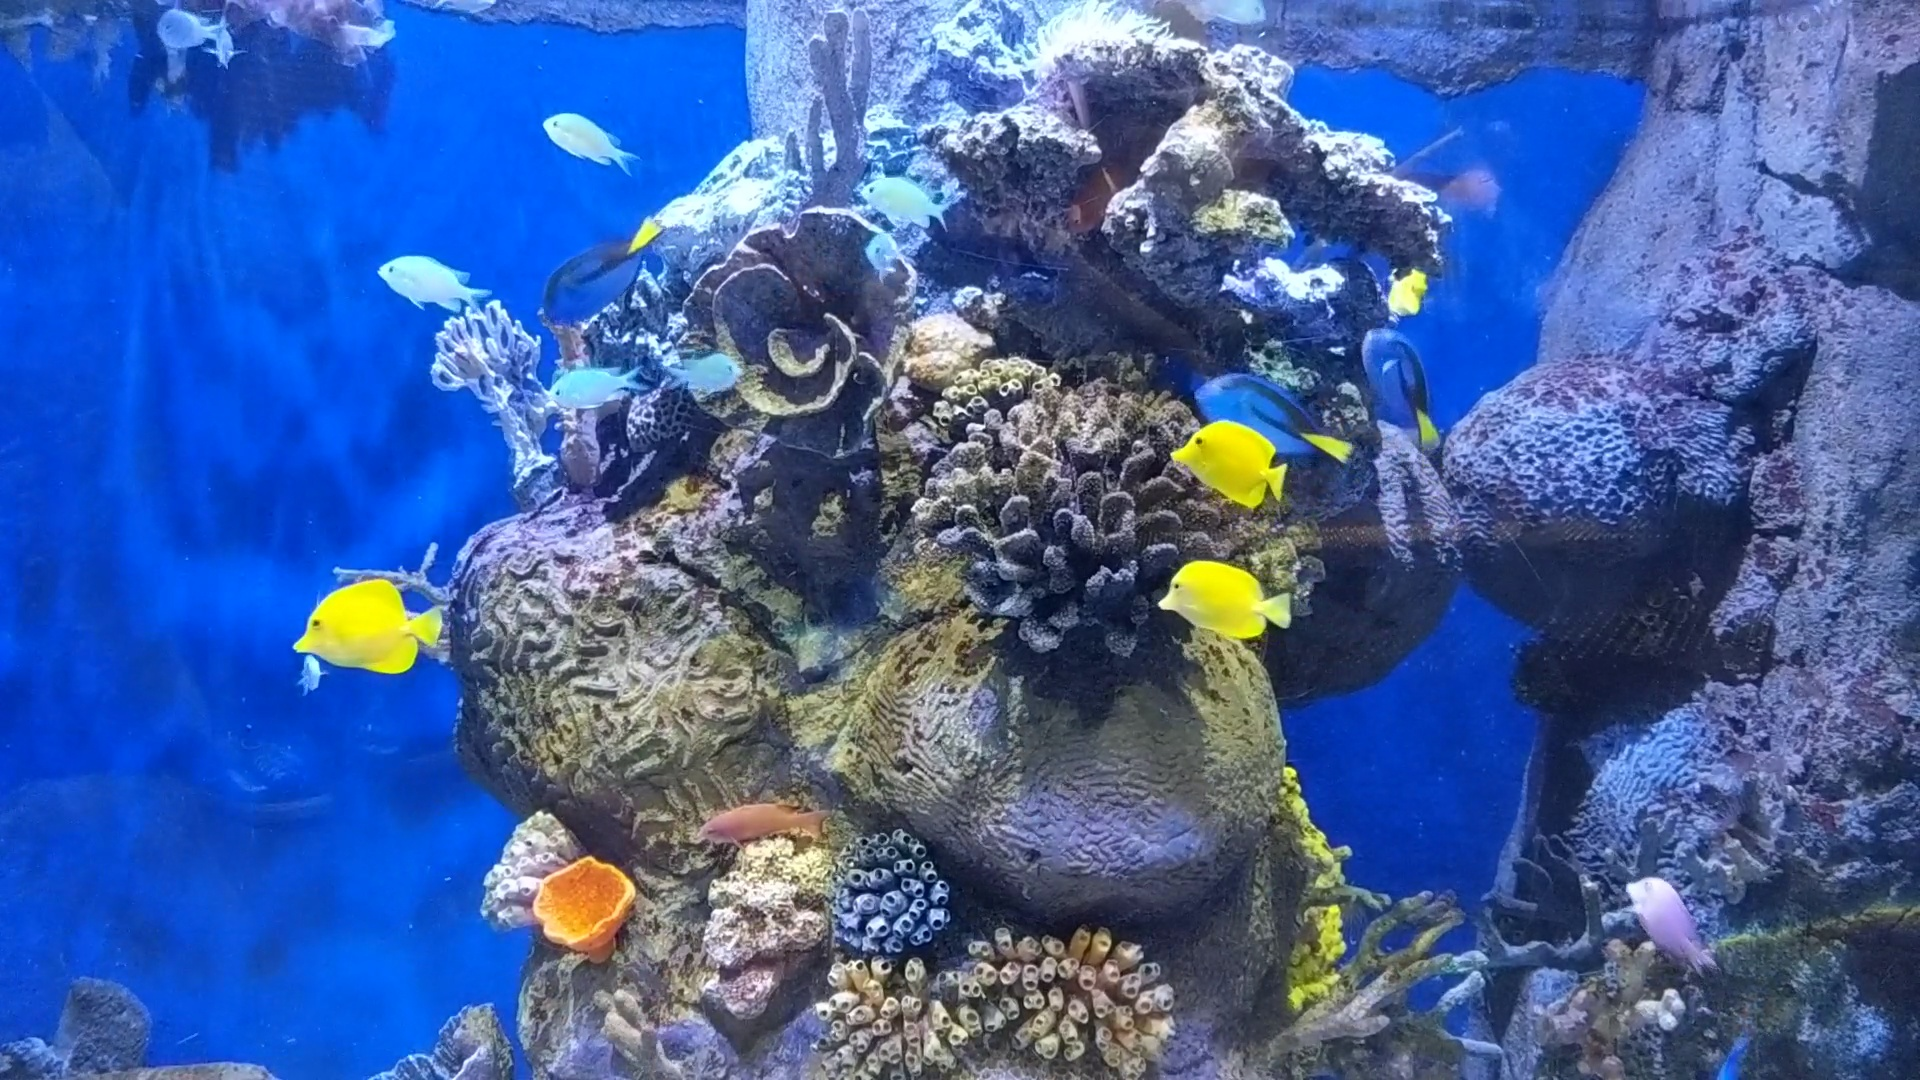blue tang surgeonfish: (1182, 353, 1360, 480), (1356, 313, 1458, 450), (524, 211, 659, 314)
damselfish: (367, 241, 496, 322), (650, 316, 752, 406), (527, 98, 640, 173), (531, 349, 650, 419), (531, 348, 647, 419), (853, 157, 953, 231), (280, 636, 332, 698), (861, 225, 916, 280)
pink fish: (1604, 861, 1724, 981)
saddle butterfly fish: (286, 568, 446, 680), (1153, 553, 1300, 650), (1155, 407, 1292, 508)
